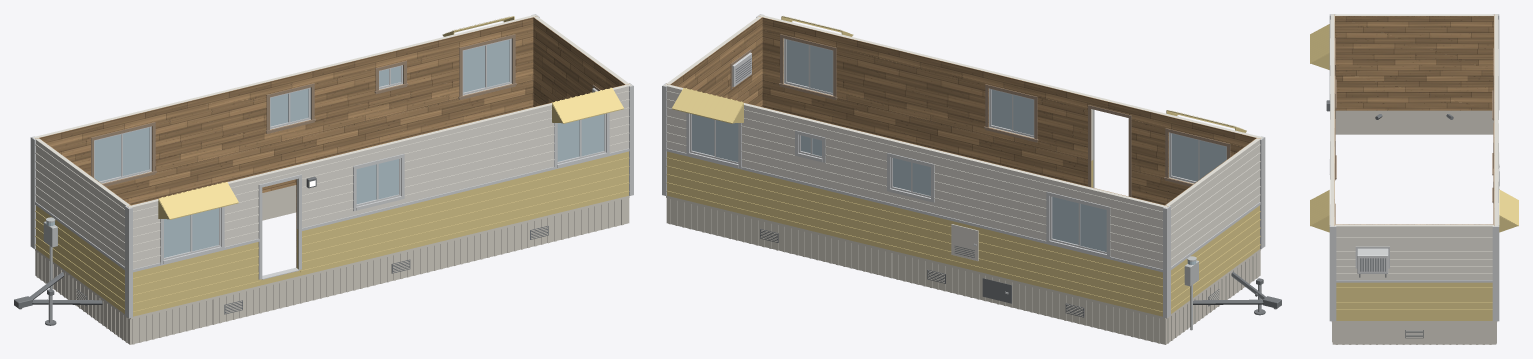
File: trailer_a.glb
3 renders of one model, left to right at view 1: azimuth 30°, elevation 25°; view 2: azimuth 150°, elevation 25°; view 3: azimuth 270°, elevation 25°, orthographic. The views are drawn at different scales.
Parts seen in each view (by area): view 1: trailer_a_panel, trailer_a_tr_y, trailer_a_tr_w, trailer_a_skirt, trailer_a_glass, trailer_a_alu, trailer_a_trim, trailer_a_steel_d, trailer_a_galv; view 2: trailer_a_panel, trailer_a_tr_w, trailer_a_tr_y, trailer_a_skirt, trailer_a_glass, trailer_a_alu, trailer_a_trim, trailer_a_steel_d, trailer_a_galv; view 3: trailer_a_panel, trailer_a_tr_w, trailer_a_tr_y, trailer_a_skirt, trailer_a_alu, trailer_a_steel_d, trailer_a_trim.
Boxes of the visible parts, <box> form: trailer_a_panel: <box>35,16,629,267</box>; trailer_a_tr_y: <box>35,16,629,316</box>; trailer_a_tr_w: <box>33,15,631,269</box>; trailer_a_skirt: <box>35,185,629,344</box>; trailer_a_glass: <box>46,39,604,257</box>; trailer_a_alu: <box>30,14,633,318</box>; trailer_a_trim: <box>91,34,600,267</box>; trailer_a_steel_d: <box>14,176,548,325</box>; trailer_a_galv: <box>43,217,57,289</box>; trailer_a_panel: <box>666,16,1260,206</box>; trailer_a_tr_w: <box>664,15,1262,269</box>; trailer_a_tr_y: <box>666,16,1260,316</box>; trailer_a_skirt: <box>666,196,1260,344</box>; trailer_a_glass: <box>692,40,1226,264</box>; trailer_a_alu: <box>662,14,1265,318</box>; trailer_a_trim: <box>730,34,1230,196</box>; trailer_a_steel_d: <box>735,58,1281,317</box>; trailer_a_galv: <box>1184,256,1198,330</box>; trailer_a_panel: <box>1334,14,1494,225</box>; trailer_a_tr_w: <box>1330,14,1499,279</box>; trailer_a_tr_y: <box>1310,24,1518,320</box>; trailer_a_skirt: <box>1331,110,1497,344</box>; trailer_a_alu: <box>1329,14,1499,321</box>; trailer_a_steel_d: <box>1326,100,1499,338</box>; trailer_a_trim: <box>1335,38,1493,224</box>.
Size of the model in its own units: 13.98 by 3.23 by 5.
12 materials, 1 textured.
